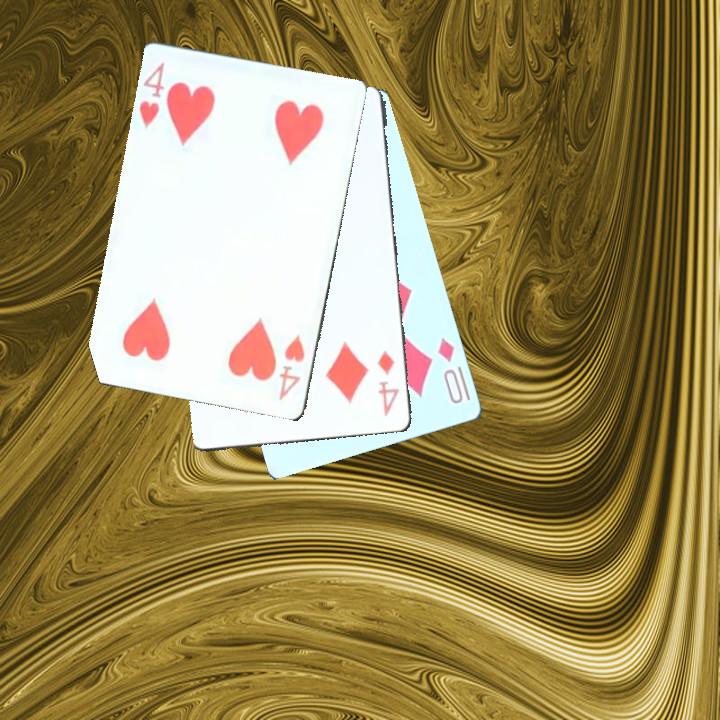10d: (433, 333, 466, 407)
4d: (373, 346, 402, 419)
4h: (274, 330, 308, 403), (136, 58, 167, 131)
